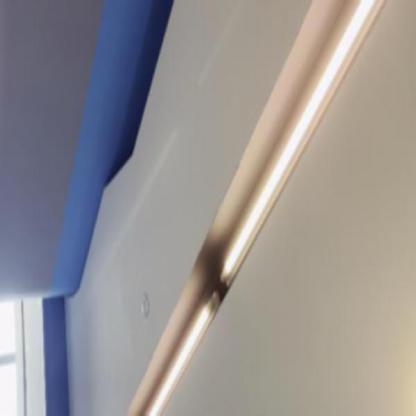light_on: (214, 0, 386, 290), (144, 284, 221, 414)
